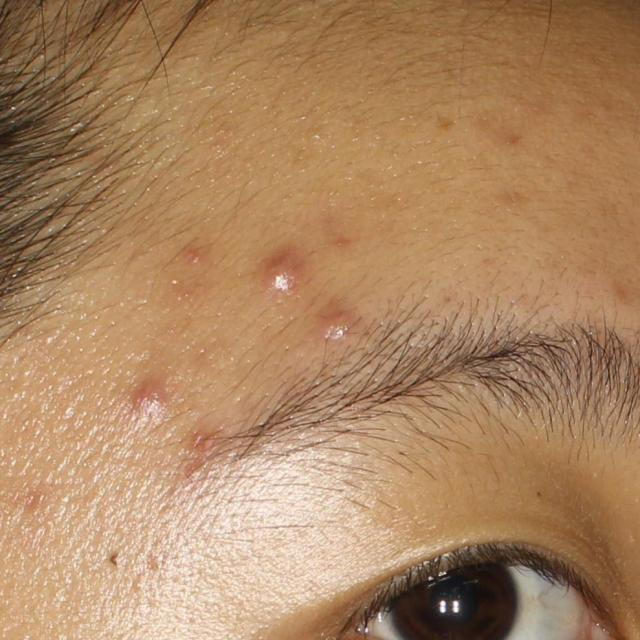blackhead: (105, 548, 128, 573)
nodule: (255, 246, 312, 307), (123, 376, 176, 426), (314, 294, 359, 348)
